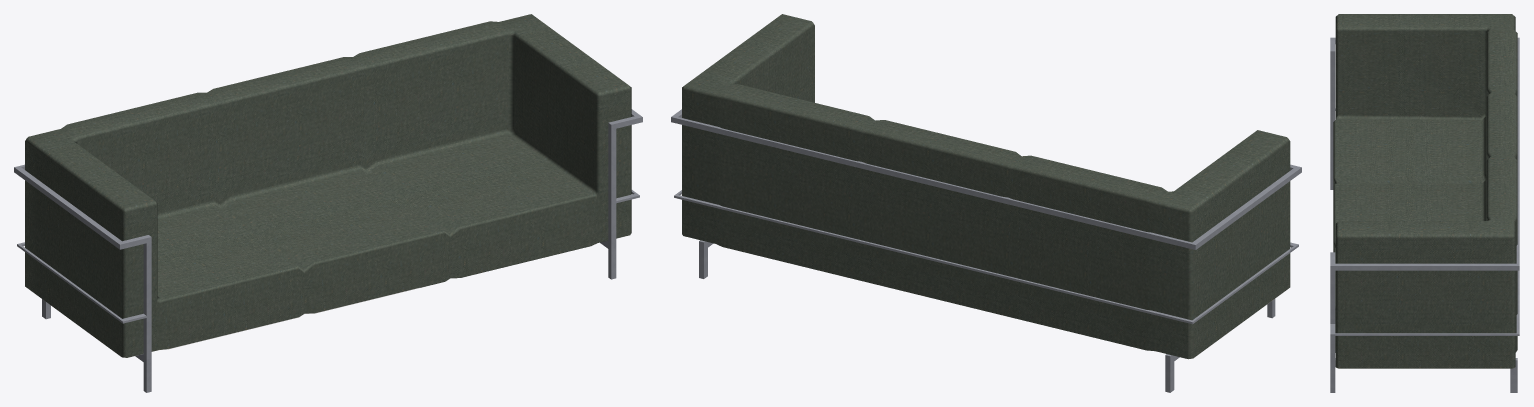
The model's file is LGSeocho25Couch.fbx.
3 renders of one model, left to right at view 1: azimuth 30°, elevation 25°; view 2: azimuth 150°, elevation 25°; view 3: azimuth 270°, elevation 25°, orthographic. The views are drawn at different scales.
Visible parts, largest first — view 1: LGSeocho25Fabric, LGSeocho25Metal; view 2: LGSeocho25Fabric, LGSeocho25Metal; view 3: LGSeocho25Fabric, LGSeocho25Metal.
Boxes of the visible parts, x1=… form: LGSeocho25Fabric: x1=25, y1=14, x2=631, y2=357; LGSeocho25Metal: x1=14, y1=109, x2=642, y2=392; LGSeocho25Fabric: x1=682, y1=14, x2=1290, y2=359; LGSeocho25Metal: x1=671, y1=109, x2=1301, y2=392; LGSeocho25Fabric: x1=1333, y1=14, x2=1517, y2=368; LGSeocho25Metal: x1=1330, y1=37, x2=1519, y2=392.
Bounding box in the file's own units: 205 × 70.31 × 71.95.
